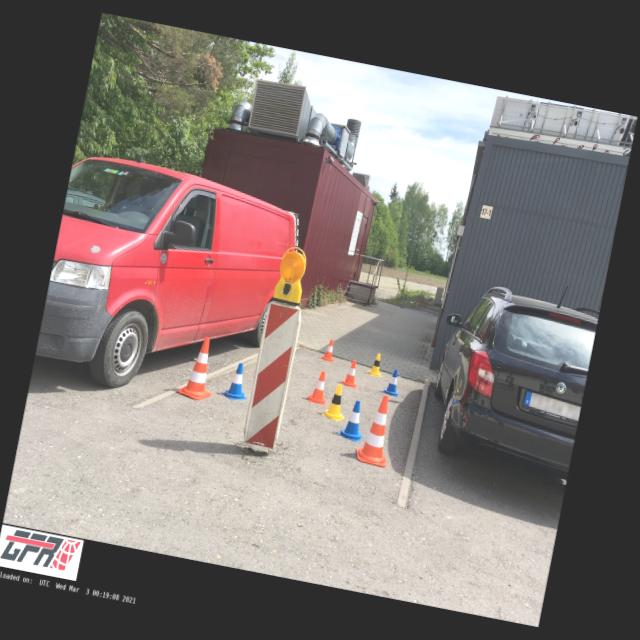blue_cone: (336, 398, 368, 443), (222, 361, 252, 401), (383, 368, 402, 396)
large_orange_cone: (354, 392, 398, 468), (176, 334, 222, 403)
orange_cone: (306, 369, 331, 405), (341, 359, 360, 389), (322, 339, 336, 362)
yellow_cone: (322, 382, 348, 420), (366, 352, 384, 378)
